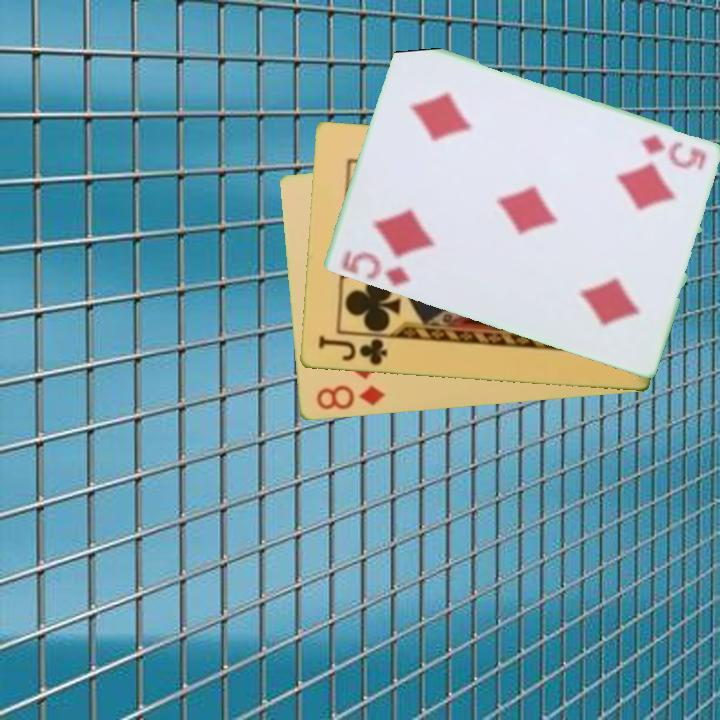5d: (636, 131, 709, 174), (338, 247, 412, 289)
8d: (312, 382, 387, 413)
Jc: (314, 333, 390, 369)
